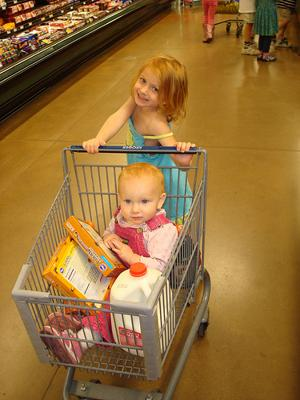person: (81, 54, 205, 292)
